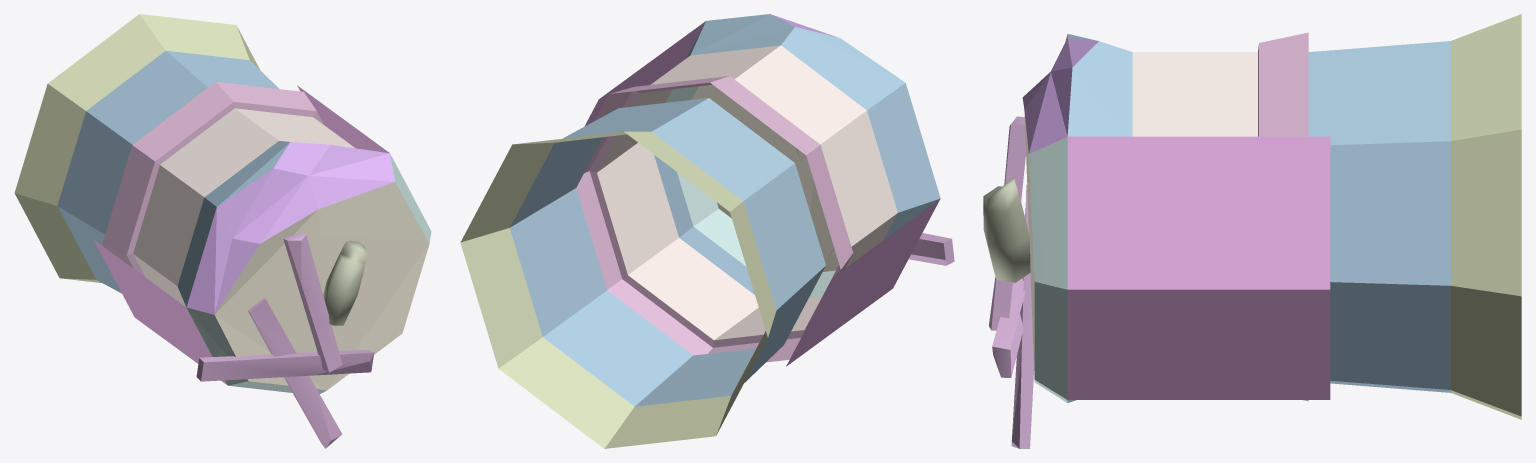
The picture shows the model from 3 angles, left to right: view 1: azimuth 30°, elevation 25°; view 2: azimuth 150°, elevation 25°; view 3: azimuth 270°, elevation 25°; orthographic projection. The views are drawn at different scales.
Visible parts, largest first — view 1: Object35; view 2: Object35; view 3: Object35.
Part boxes in pixels (box(x1,y1,x2,y2)): Object35: box(14, 14, 431, 448); Object35: box(460, 14, 954, 448); Object35: box(983, 14, 1521, 448).
Size of the model in its own units: 2479 by 2696 by 3068.
